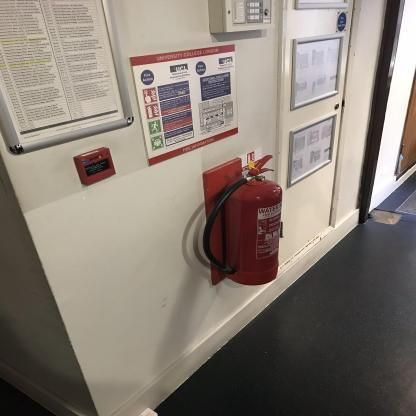Fire Extinguisher: (194, 141, 294, 303)
